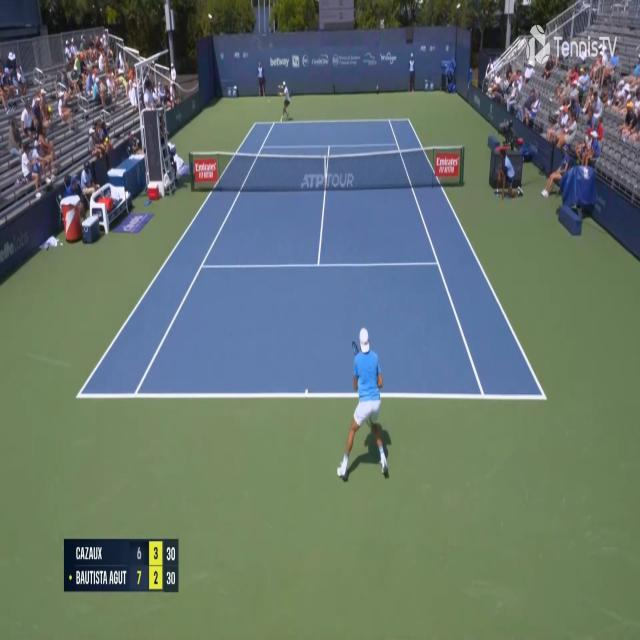tennis-player: (334, 324, 394, 490), (276, 80, 292, 120)
